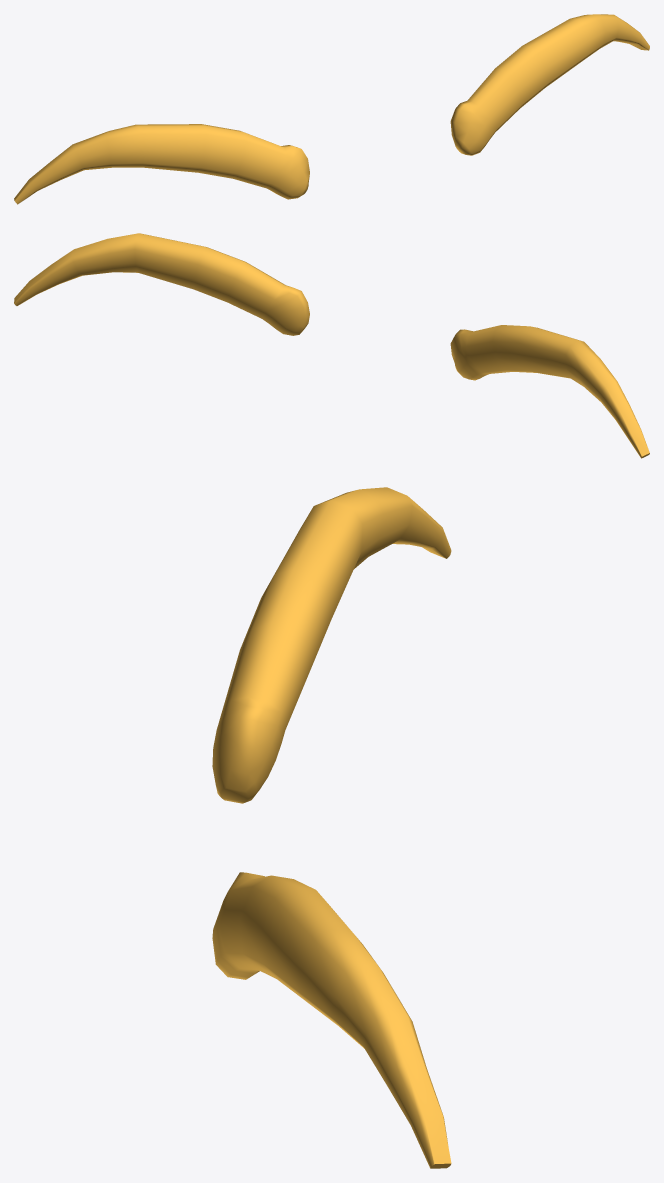
The model's file is Eyebrows_05_05.fbx.
3 renders of one model, top to bottom at view 1: azimuth 30°, elevation 25°; view 2: azimuth 150°, elevation 25°; view 3: azimuth 270°, elevation 25°, orthographic. The views are drawn at different scales.
Visible parts, largest first — view 1: Eyebrows_05_05; view 2: Eyebrows_05_05; view 3: Eyebrows_05_05.
Boxes of the visible parts, x1=… form: Eyebrows_05_05: x1=14, y1=14, x2=649, y2=204; Eyebrows_05_05: x1=14, y1=233, x2=649, y2=458; Eyebrows_05_05: x1=212, y1=487, x2=451, y2=1168.
Size of the model in its own units: 19.76 by 2.56 by 3.22.
